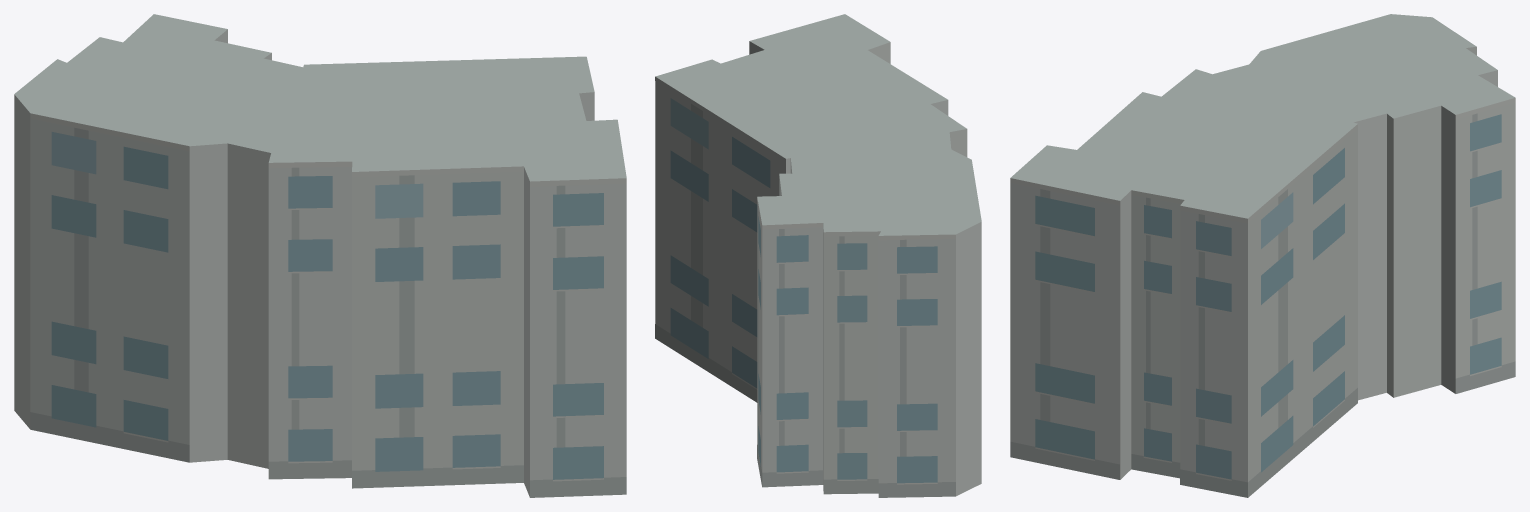
The model's file is survey-upis-32920413.glb.
The picture shows the model from 3 angles, left to right: view 1: azimuth 30°, elevation 25°; view 2: azimuth 150°, elevation 25°; view 3: azimuth 270°, elevation 25°; orthographic projection. The views are drawn at different scales.
Parts seen in each view (by area): view 1: survey-upis-32920413.tmp; view 2: survey-upis-32920413.tmp; view 3: survey-upis-32920413.tmp.
Part boxes in pixels (x1,y1,x2,y2): survey-upis-32920413.tmp: (14, 14, 626, 497); survey-upis-32920413.tmp: (655, 14, 981, 497); survey-upis-32920413.tmp: (1010, 14, 1515, 497).
Bounding box in the file's own units: 22.81 × 14.5 × 23.8.
